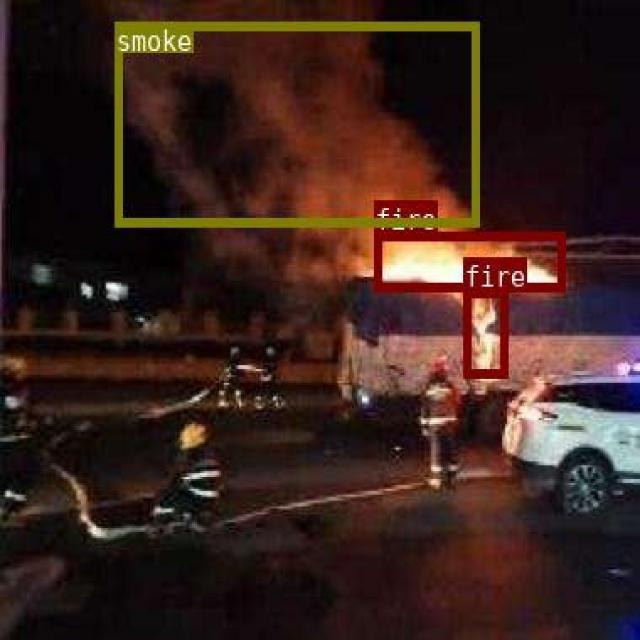fire: (373, 230, 563, 289), (462, 288, 506, 377)
smoke: (114, 20, 477, 226)
